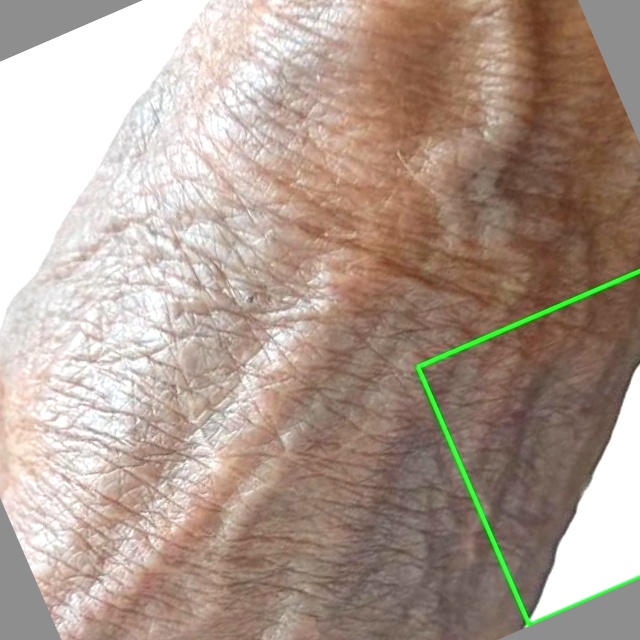Eczema: (417, 271, 639, 625)
